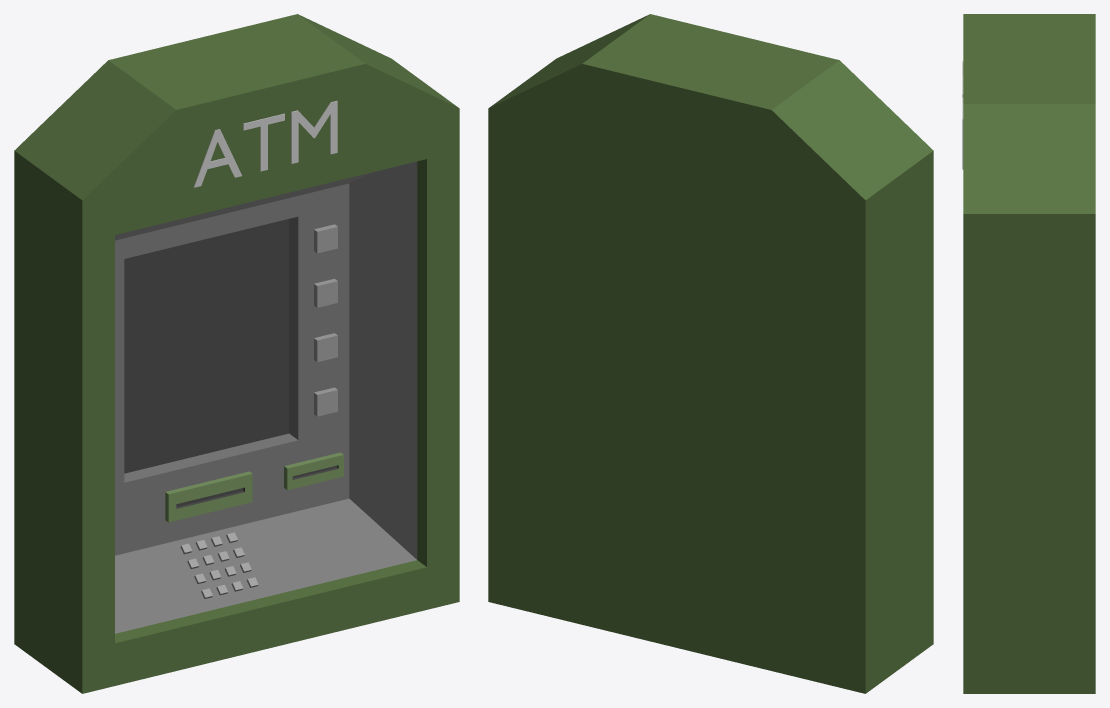
The model's file is ATM.glb.
The picture shows the model from 3 angles, left to right: view 1: azimuth 30°, elevation 25°; view 2: azimuth 150°, elevation 25°; view 3: azimuth 270°, elevation 25°; orthographic projection. The views are drawn at different scales.
Parts seen in each view (by area): view 1: ATM; view 2: ATM; view 3: ATM.
Boxes of the visible parts, x1,y1,x2,y2 form: ATM: (14,14,459,693); ATM: (488,14,933,693); ATM: (962,14,1095,693).
Bounding box in the file's own units: 0.6142 × 0.8728 × 0.1933.
1 material, 1 textured.
